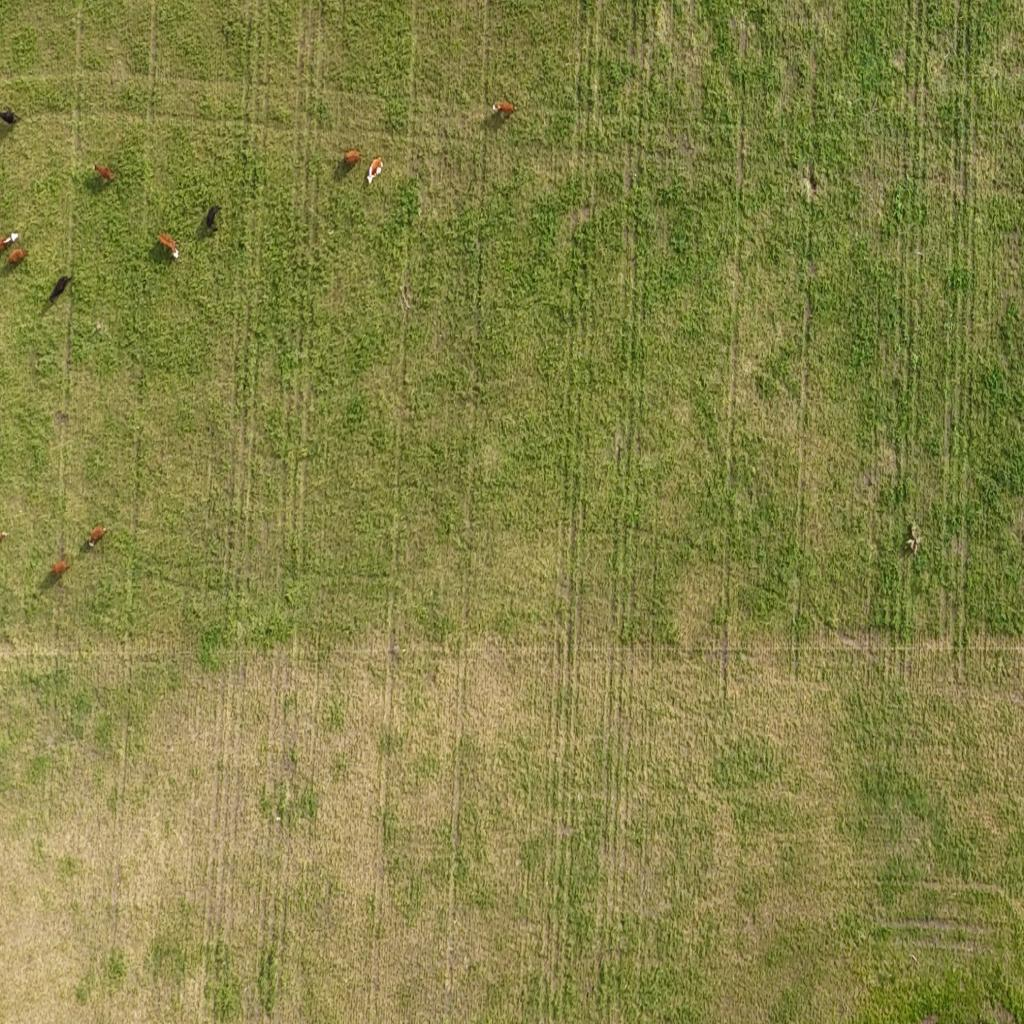cow: (48, 274, 72, 304), (156, 233, 180, 261), (87, 525, 107, 549), (366, 158, 382, 187), (94, 162, 114, 184), (8, 248, 28, 268), (0, 107, 21, 126), (205, 205, 220, 231), (490, 100, 514, 116), (50, 561, 70, 579), (344, 148, 360, 167)
